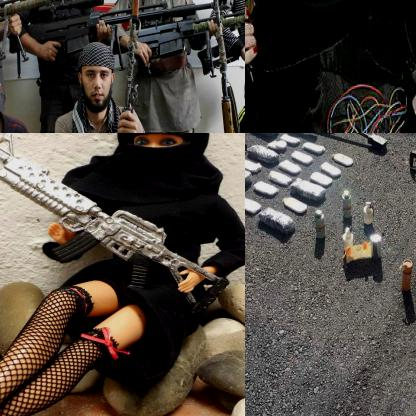pistol: (245, 0, 283, 60)
rifle: (0, 133, 226, 305), (16, 0, 216, 56), (127, 0, 244, 61), (0, 0, 121, 50), (109, 0, 144, 132), (213, 0, 244, 132), (257, 133, 390, 155), (211, 6, 244, 74)
